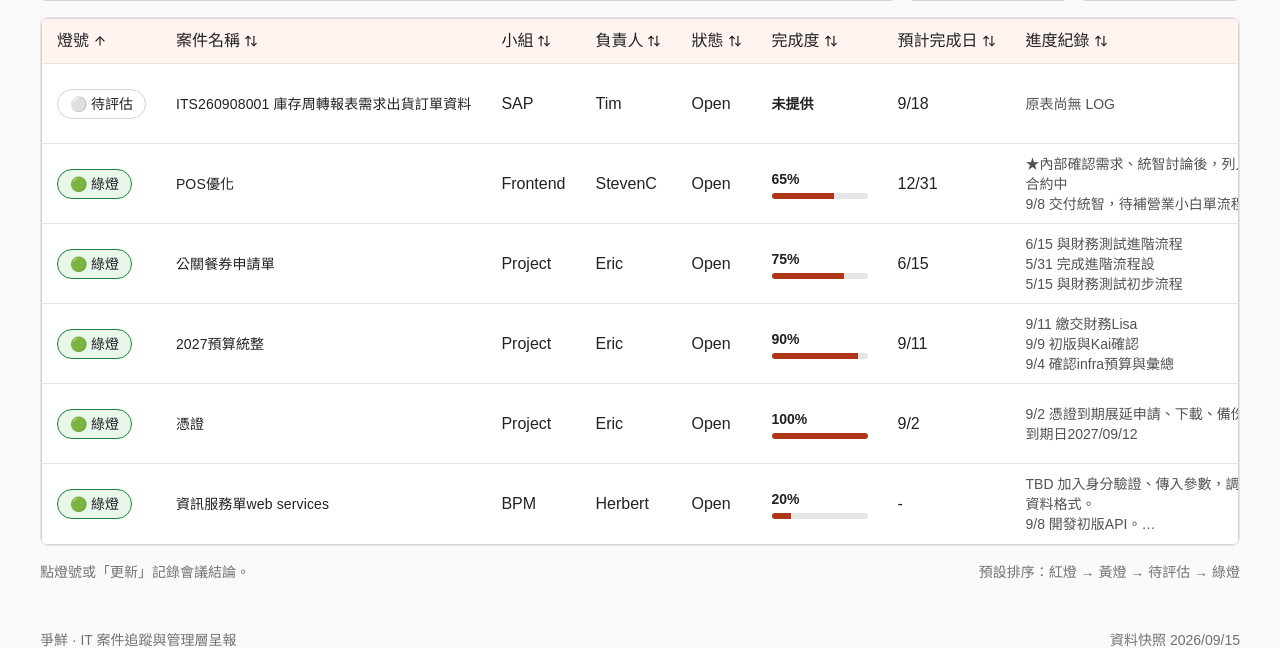
Test: MeetingView（US-006） › 取消編輯不改變資料
(page scrolled)
Click the button with aria-label "修改憑證燈號" at (94, 424), box top-left (57, 408), bottom-right (132, 438)
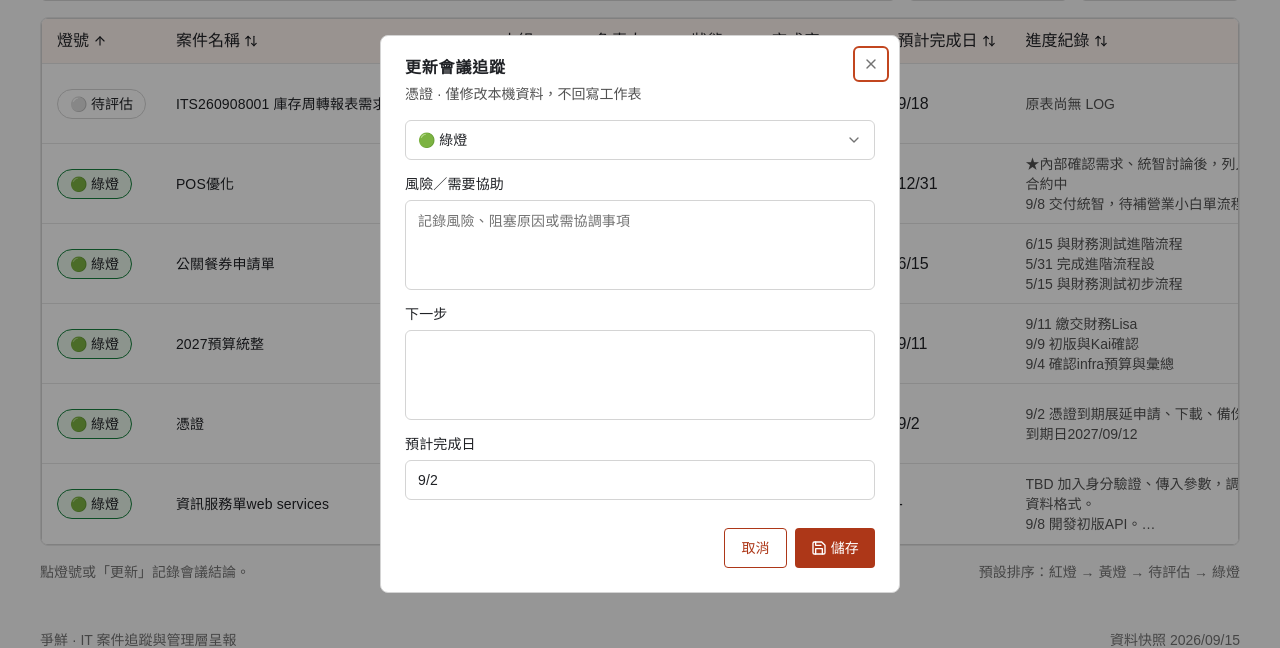
Click the button "取消" at (756, 548), box top-left (724, 528), bottom-right (787, 568)
(page scrolled)
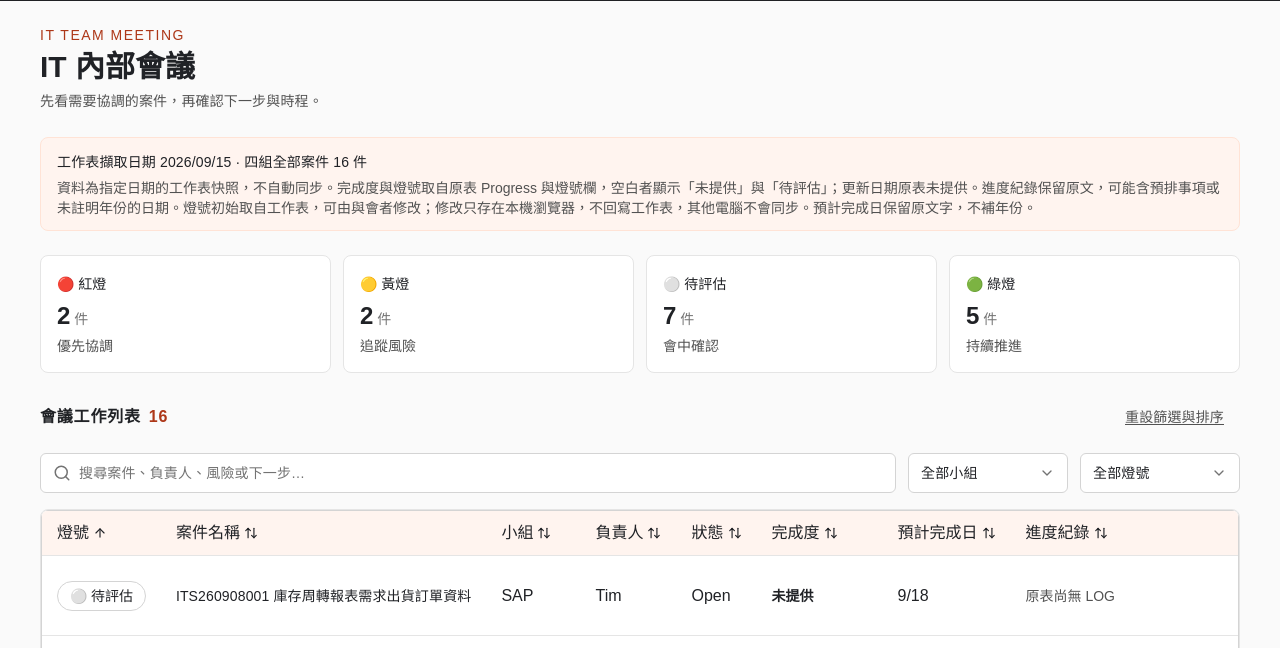
Expected: the button "⚪ 待評估 7件 會中確認" is shown, top-left (646, 255), bottom-right (937, 373)
Now the dialog is gone
